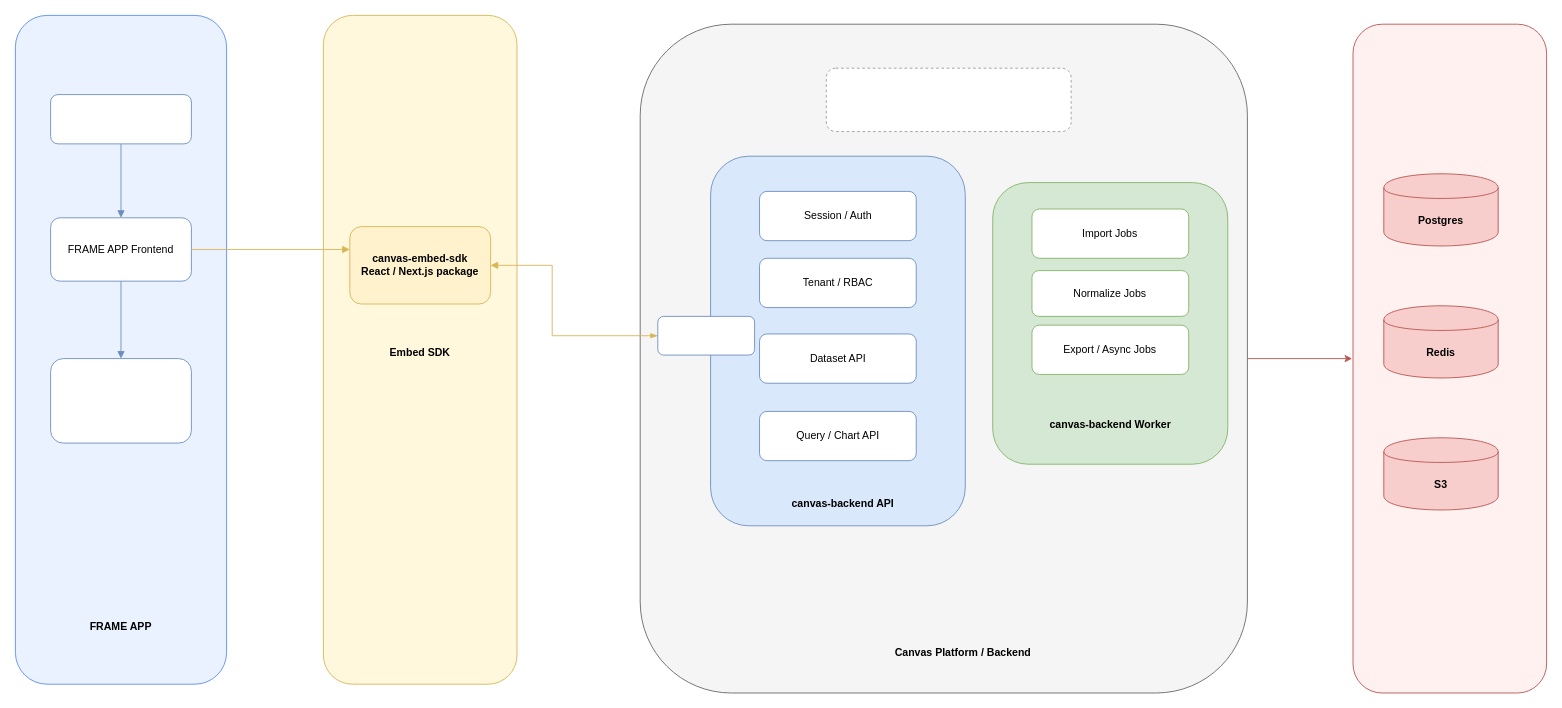
Image size: 1562x708. Some labels were removed from this diagram. Each missing label, with the centre of its shape:
"End User" goes at point (120, 119).
"FRAME APP Backend" goes at point (120, 400).
"one codebase one Docker image two runtime modes" goes at point (948, 99).
"Realtime Gateway" goes at point (706, 335).
